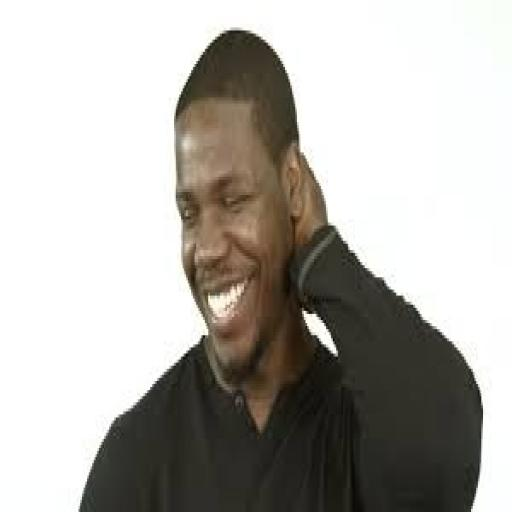laughing: (72, 21, 484, 506)
